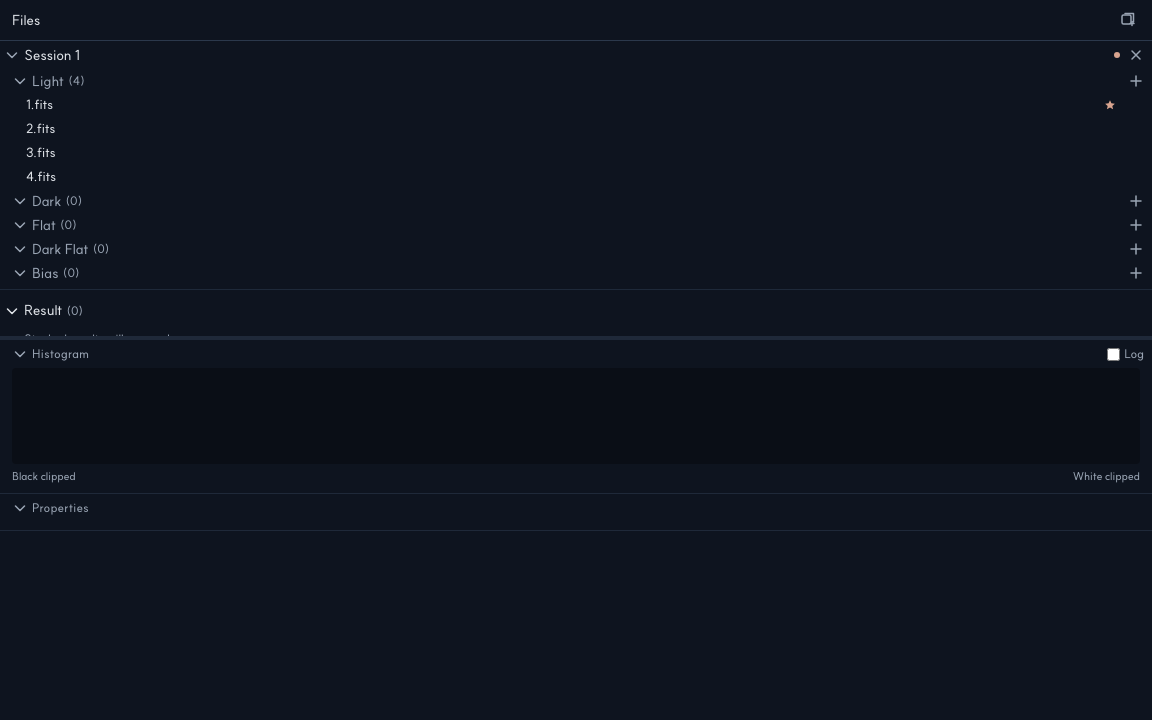
Test: sessions › uses the new name in the delete confirmation
The width and height of the screenshot is (1152, 720).
Double-click the text "Session 1" at (52, 54), box top-left (24, 46), bottom-right (80, 64)
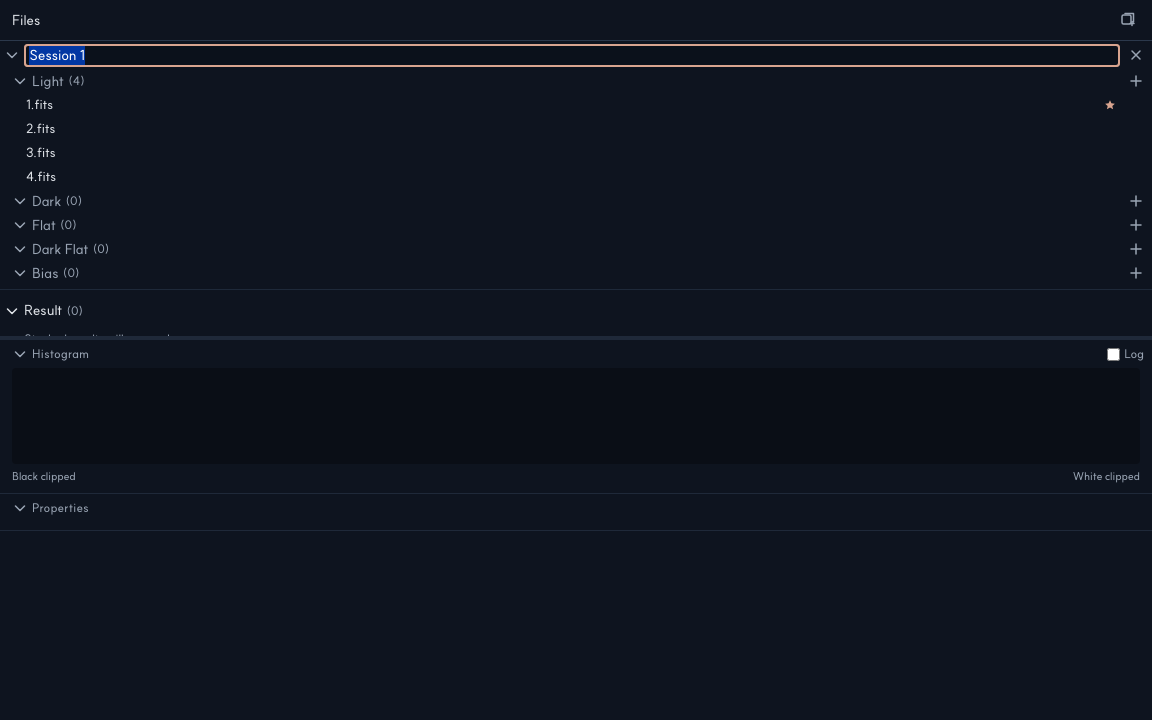
Replace the text in the field showing "Session 1" with "M16" at (572, 55), box top-left (24, 44), bottom-right (1120, 66)
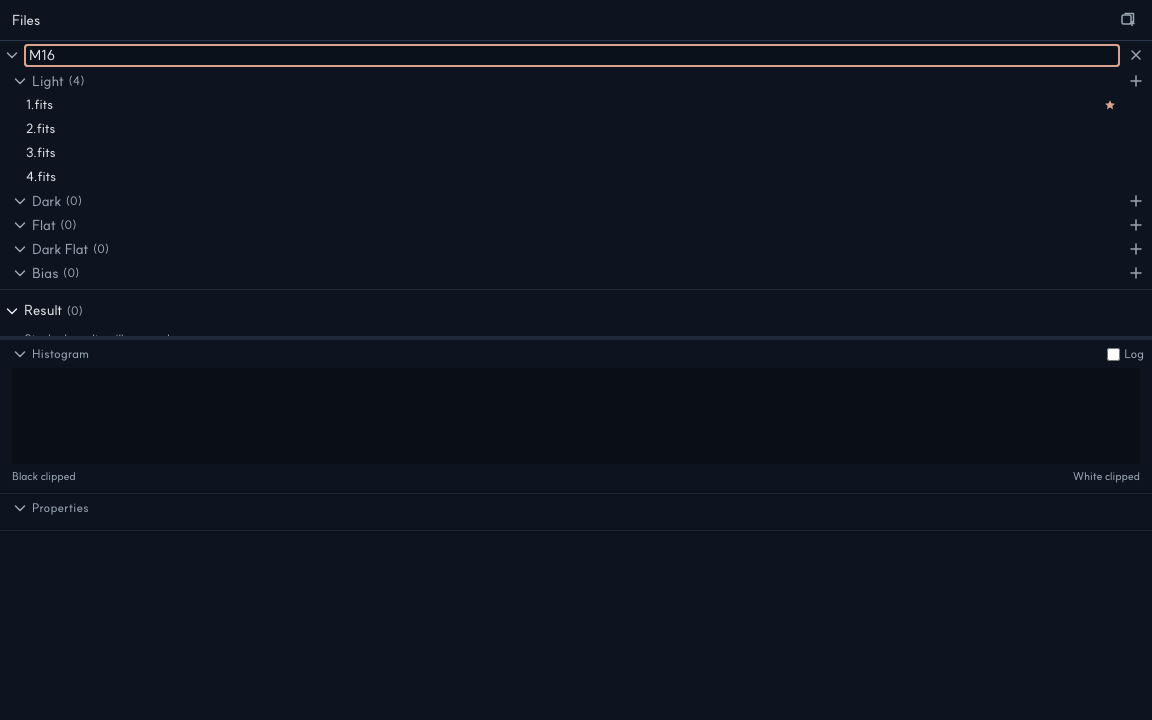
Press Enter in the field showing "Session 1", box top-left (24, 44), bottom-right (1120, 66)
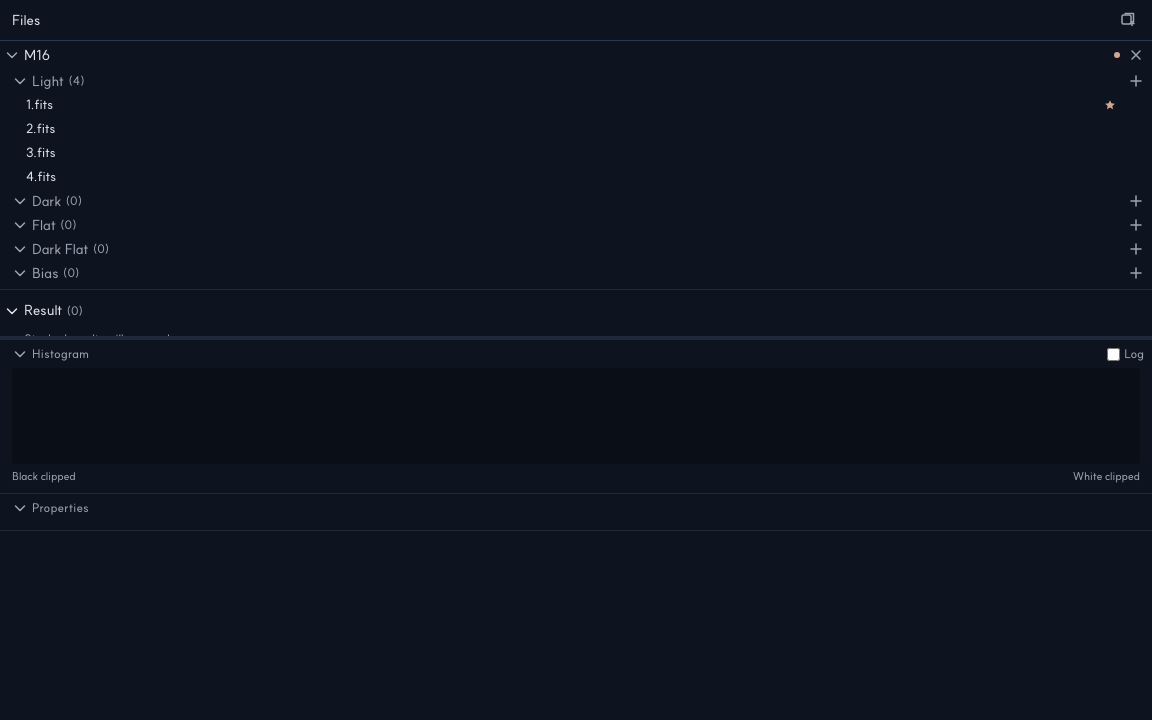
Click the button named "Remove session" at (1136, 55), box top-left (1124, 43), bottom-right (1148, 67)
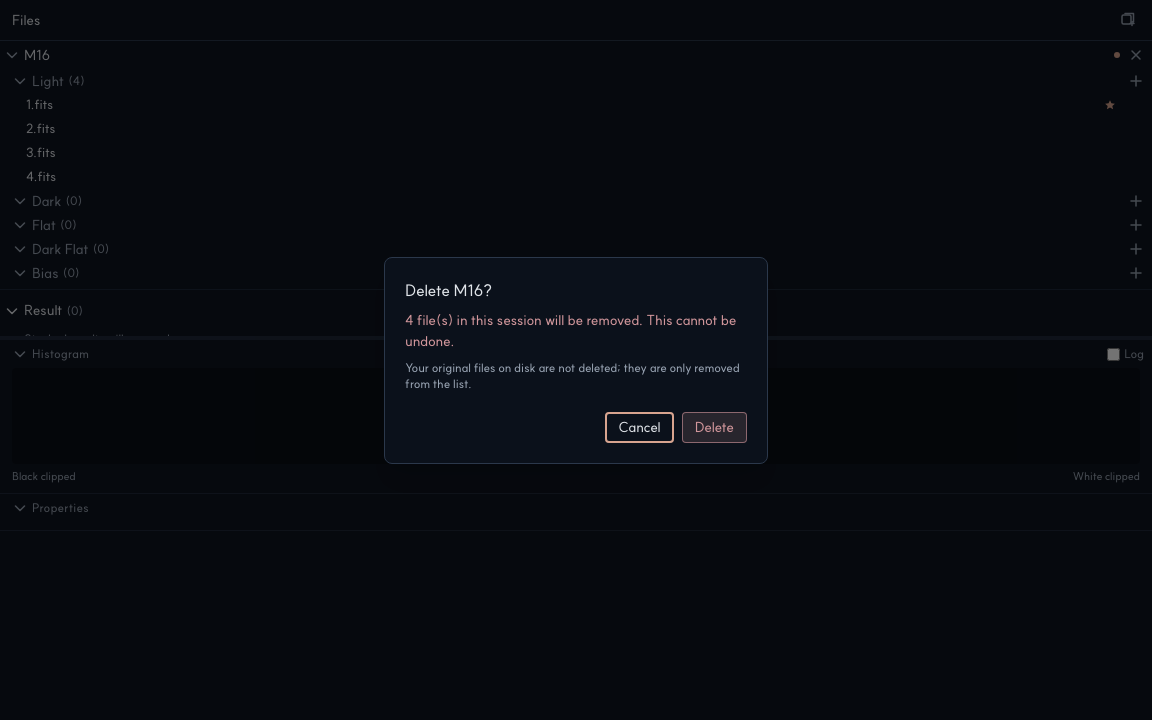
Result: the heading "Delete M16?" is shown at top-left (405, 280), bottom-right (492, 300)
